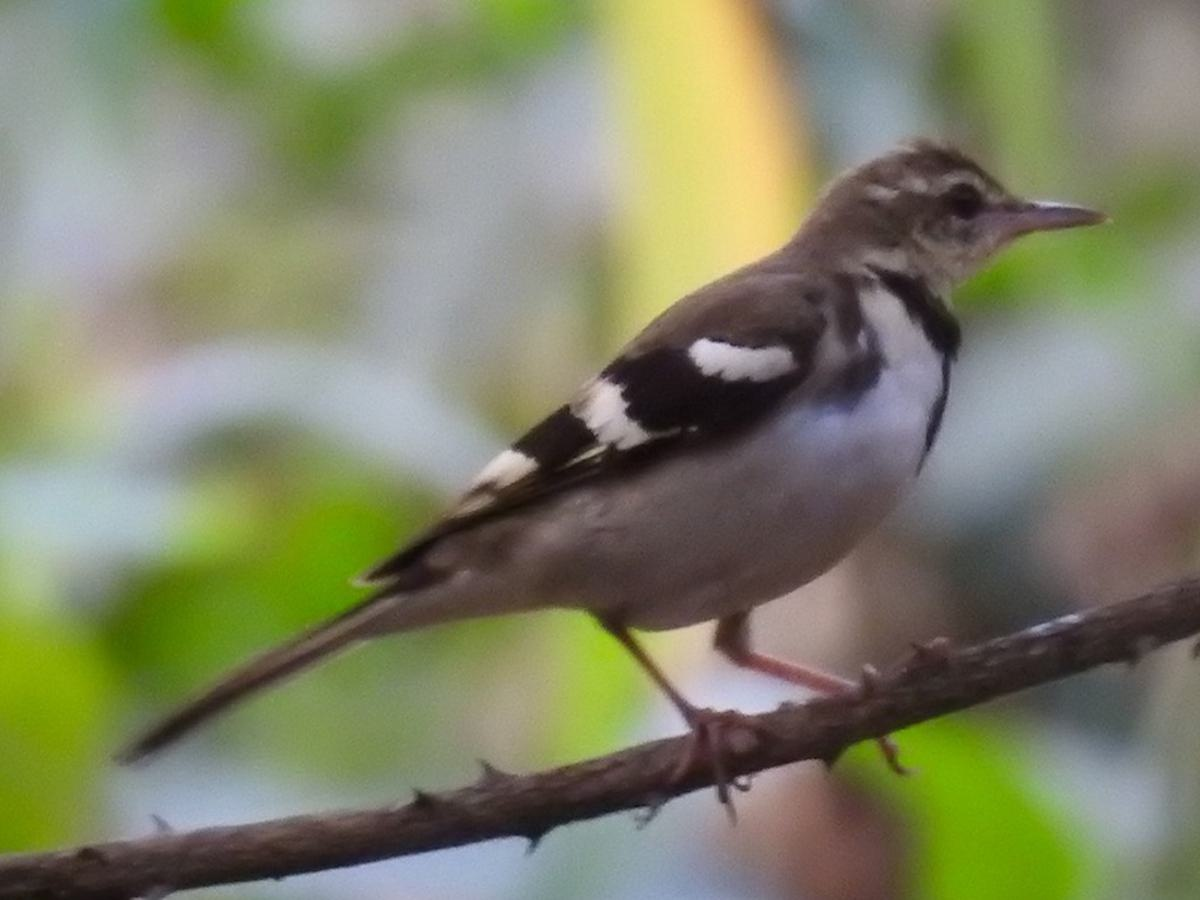wagtail: (254, 148, 1117, 712)
